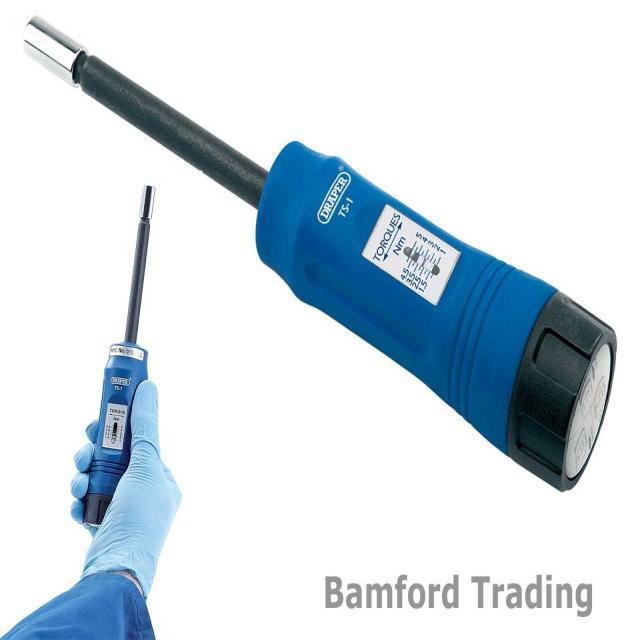screwdriver: (18, 11, 620, 500), (79, 180, 157, 526)
